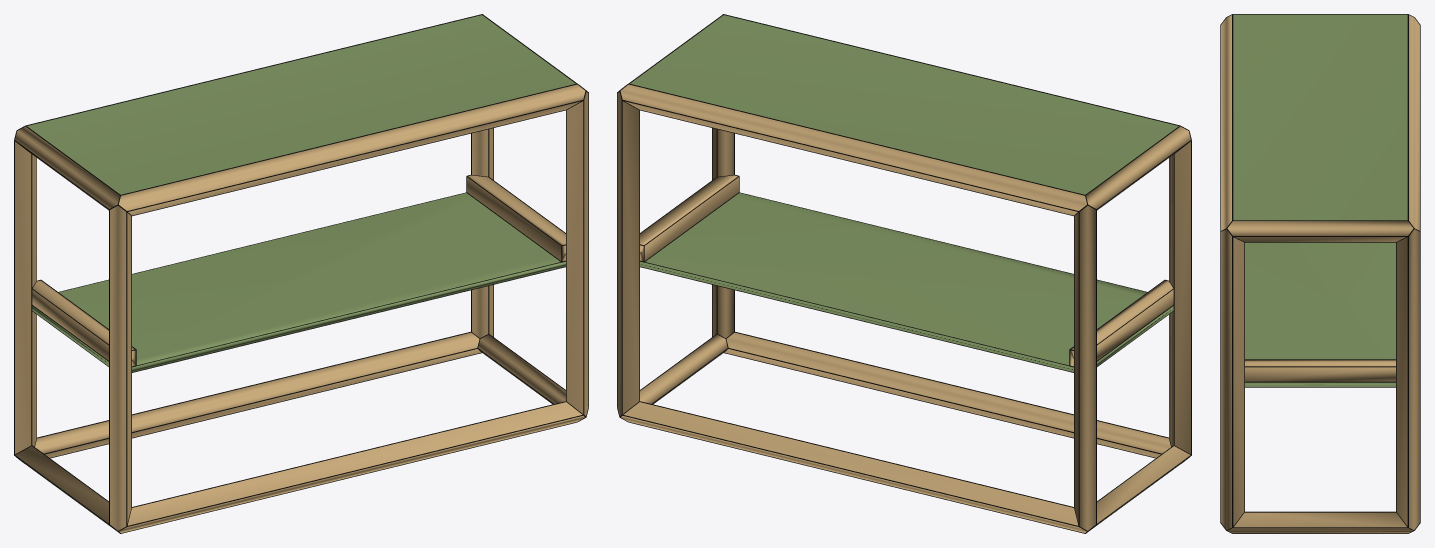
The model's file is bureau-1200.glb.
3 views of the same model, side by side, from view 1: azimuth 30°, elevation 25°; view 2: azimuth 150°, elevation 25°; view 3: azimuth 270°, elevation 25° (orthographic). The views are drawn at different scales.
Parts seen in each view (by area): view 1: panneau-dessus_exterieur, tablette-plate-mod-0, arete-X2, arete-X0, arete-X1, arete-Z1, arete-Z0, arete-Z2, tablette-traverse-right-mod-0, tablette-traverse-left-mod-0, arete-Y2, arete-wire-X0 (+10 smaller); view 2: panneau-dessus_exterieur, tablette-plate-mod-0, arete-X3, arete-X1, arete-X0, arete-Z3, arete-Z2, arete-Z0, tablette-traverse-right-mod-0, tablette-traverse-left-mod-0, arete-Y2, arete-wire-X1 (+10 smaller); view 3: panneau-dessus_exterieur, tablette-plate-mod-0, arete-Z1, arete-Z3, arete-Y1, arete-Y3, tablette-traverse-right-mod-0, arete-X2, arete-X3, arete-wire-Z1, arete-wire-Z3, arete-wire-Y1 (+5 smaller).
Part boxes in pixels (bbox=[...]): panneau-dessus_exterieur: bbox=[27, 15, 575, 194]; tablette-plate-mod-0: bbox=[32, 193, 565, 372]; arete-X2: bbox=[119, 84, 585, 215]; arete-X0: bbox=[119, 402, 585, 532]; arete-X1: bbox=[35, 332, 481, 457]; arete-Z1: bbox=[566, 92, 588, 415]; arete-Z0: bbox=[110, 206, 131, 530]; arete-Z2: bbox=[15, 141, 36, 453]; tablette-traverse-right-mod-0: bbox=[467, 175, 565, 261]; tablette-traverse-left-mod-0: bbox=[32, 280, 135, 366]; arete-Y2: bbox=[15, 126, 119, 209]; arete-wire-X0: bbox=[118, 401, 586, 533]; panneau-dessus_exterieur: bbox=[630, 15, 1178, 194]; tablette-plate-mod-0: bbox=[640, 193, 1173, 372]; arete-X3: bbox=[620, 84, 1086, 215]; arete-X1: bbox=[620, 402, 1086, 532]; arete-X0: bbox=[724, 332, 1170, 457]; arete-Z3: bbox=[617, 92, 639, 415]; arete-Z2: bbox=[1074, 206, 1095, 530]; arete-Z0: bbox=[1169, 141, 1190, 453]; tablette-traverse-right-mod-0: bbox=[640, 175, 738, 261]; tablette-traverse-left-mod-0: bbox=[1070, 280, 1173, 366]; arete-Y2: bbox=[1086, 126, 1190, 209]; arete-wire-X1: bbox=[619, 401, 1087, 533]; panneau-dessus_exterieur: bbox=[1233, 14, 1407, 220]; tablette-plate-mod-0: bbox=[1245, 242, 1395, 386]; arete-Z1: bbox=[1221, 229, 1244, 529]; arete-Z3: bbox=[1396, 229, 1419, 529]; arete-Y1: bbox=[1228, 512, 1412, 533]; arete-Y3: bbox=[1227, 221, 1413, 241]; tablette-traverse-right-mod-0: bbox=[1245, 360, 1395, 381]; arete-X2: bbox=[1221, 15, 1231, 230]; arete-X3: bbox=[1409, 15, 1419, 230]; arete-wire-Z1: bbox=[1220, 228, 1244, 527]; arete-wire-Z3: bbox=[1396, 231, 1420, 527]; arete-wire-Y1: bbox=[1226, 511, 1414, 533].
Size of the model in its own units: 1.23 by 0.8309 by 0.4809.
